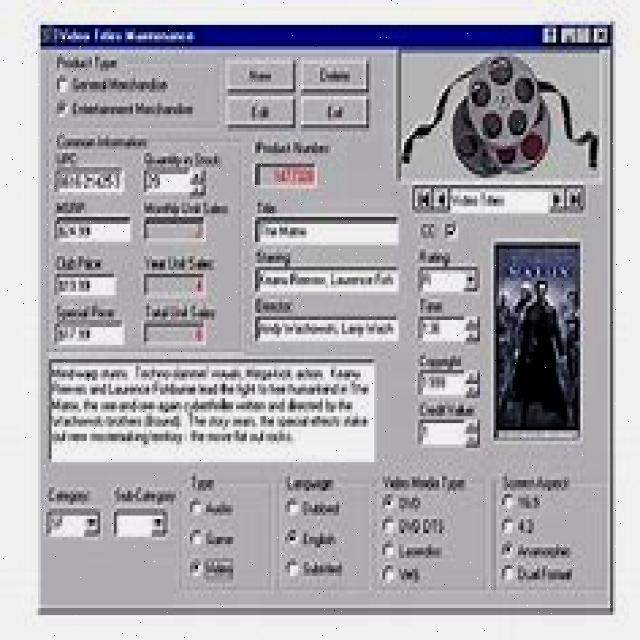button: (300, 58, 369, 92), (225, 59, 296, 92), (301, 95, 369, 129), (225, 95, 295, 128), (412, 185, 432, 214), (566, 186, 587, 213), (550, 186, 566, 214), (433, 185, 448, 212), (541, 28, 560, 44), (595, 28, 611, 44), (563, 27, 576, 45), (578, 28, 592, 44)
dropdownMenu: (418, 265, 481, 294), (45, 507, 100, 539), (112, 507, 168, 538)
icon: (38, 26, 62, 44)
input: (48, 355, 379, 466), (252, 214, 402, 248), (255, 264, 402, 294), (253, 314, 401, 343), (450, 186, 550, 213), (55, 215, 132, 247), (54, 316, 126, 346), (55, 164, 125, 193), (142, 319, 208, 349), (254, 162, 320, 191), (144, 212, 206, 242), (55, 272, 118, 299), (143, 270, 207, 296)
label: (71, 95, 195, 118), (56, 127, 149, 151), (66, 28, 198, 44), (72, 73, 172, 94), (501, 470, 574, 494), (382, 476, 468, 494), (248, 139, 332, 156), (142, 199, 231, 215), (139, 252, 220, 269), (114, 484, 182, 504), (144, 302, 223, 319), (518, 563, 576, 584), (55, 53, 118, 71), (142, 152, 222, 166), (516, 542, 574, 561), (398, 515, 447, 537), (46, 484, 92, 506), (283, 474, 335, 493), (398, 542, 444, 562), (304, 556, 344, 578), (52, 253, 103, 270), (303, 498, 343, 519), (54, 303, 120, 315), (418, 401, 477, 414), (205, 556, 235, 581), (303, 527, 335, 550), (206, 528, 238, 550), (252, 296, 294, 312), (415, 249, 453, 266), (206, 497, 234, 520), (418, 352, 463, 366), (417, 296, 449, 315), (190, 473, 218, 493), (398, 493, 424, 512), (398, 565, 424, 584), (256, 197, 285, 214), (518, 493, 546, 510), (53, 200, 86, 213), (255, 250, 290, 262), (517, 516, 537, 537), (418, 219, 432, 238), (53, 152, 76, 162)
radio: (284, 556, 302, 580), (442, 220, 459, 241), (188, 555, 203, 578), (285, 496, 300, 519), (285, 526, 299, 550), (500, 562, 516, 583), (55, 74, 70, 95), (382, 514, 396, 536), (501, 538, 515, 560), (190, 527, 203, 550), (382, 540, 395, 562), (382, 563, 395, 585), (500, 493, 514, 512), (502, 514, 514, 536), (56, 98, 69, 118), (189, 497, 202, 517), (382, 493, 395, 512)
upDown: (142, 164, 206, 200), (417, 417, 481, 449), (418, 366, 480, 397), (417, 316, 480, 342)
